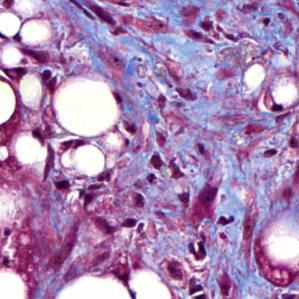steatosis: (50, 75, 122, 136)
